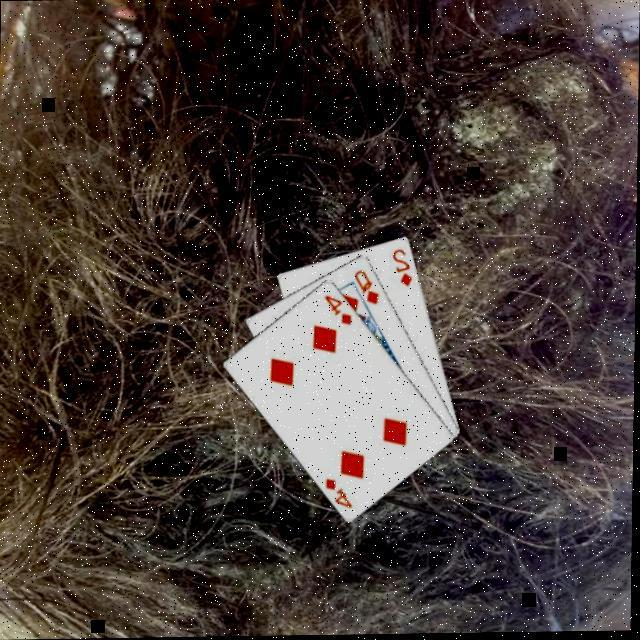2D: (388, 247, 414, 290)
4D: (320, 293, 354, 329), (321, 477, 354, 513)
QD: (349, 268, 380, 310)
